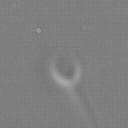normal: (71, 85, 111, 128)
